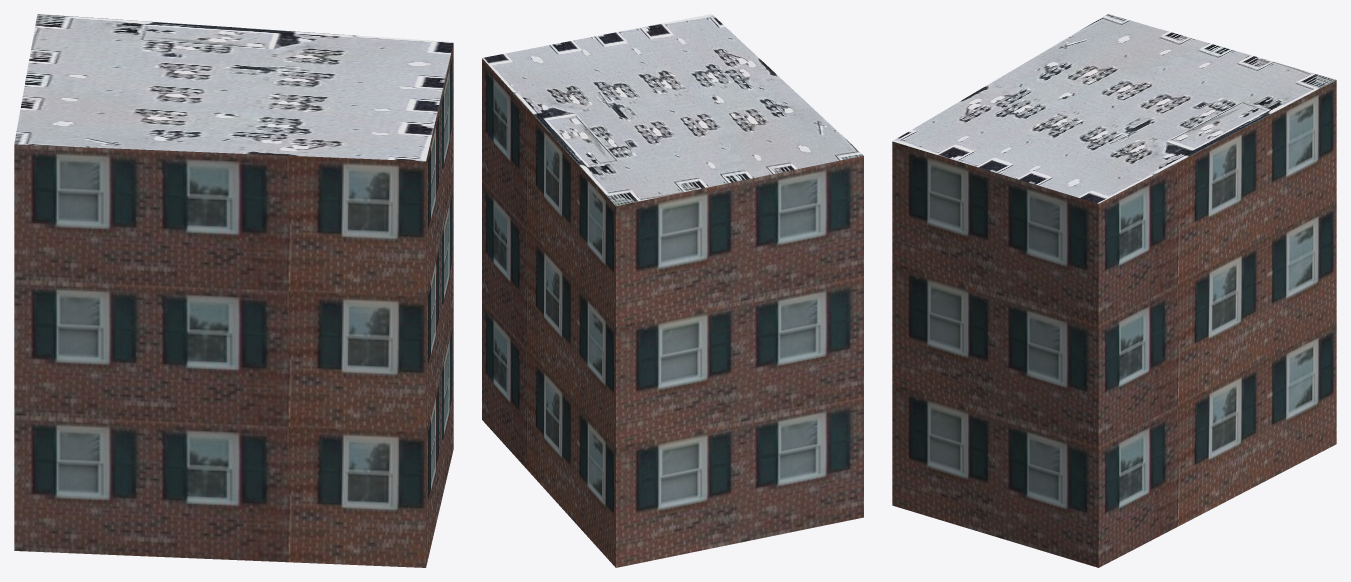
The model's file is ResTex__4709.fbx.
3 renders of one model, left to right at view 1: azimuth 30°, elevation 25°; view 2: azimuth 150°, elevation 25°; view 3: azimuth 270°, elevation 25°, orthographic. The views are drawn at different scales.
Parts seen in each view (by area): view 1: CityEngineMaterial_14_m, CityEngineMaterial_8_m; view 2: CityEngineMaterial_14_m, CityEngineMaterial_8_m; view 3: CityEngineMaterial_14_m, CityEngineMaterial_8_m.
Part boxes in pixels (<box>): CityEngineMaterial_14_m: <box>14,43,453,567</box>; CityEngineMaterial_8_m: <box>14,14,453,161</box>; CityEngineMaterial_14_m: <box>482,58,863,567</box>; CityEngineMaterial_8_m: <box>482,14,863,205</box>; CityEngineMaterial_14_m: <box>892,80,1336,567</box>; CityEngineMaterial_8_m: <box>892,14,1335,203</box>.
Bounding box in the file's own units: 10.06 × 9 × 9.96.
Materials: 2 (2 with a texture image).
